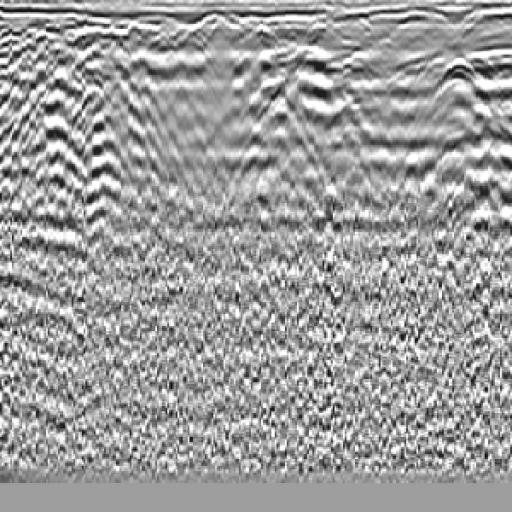non-metallic: (222, 30, 398, 219), (1, 39, 155, 225), (405, 30, 512, 225)
